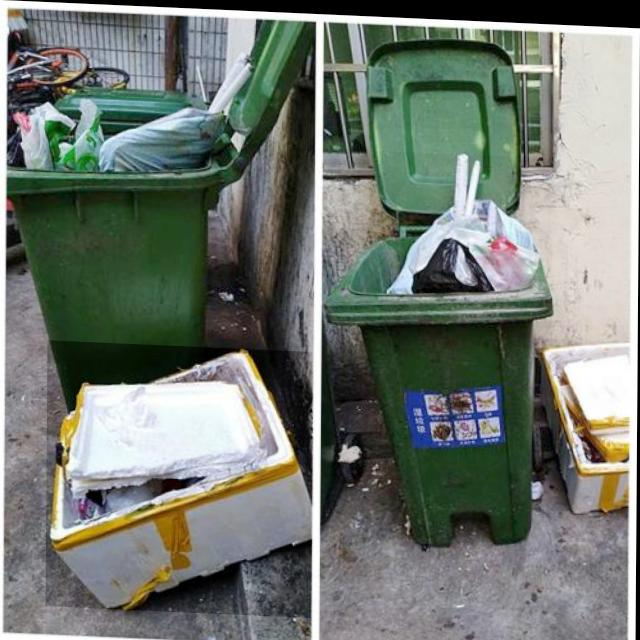garbage: (46, 340, 313, 615), (532, 332, 628, 508)
overflow: (322, 146, 553, 547), (5, 41, 244, 417)
